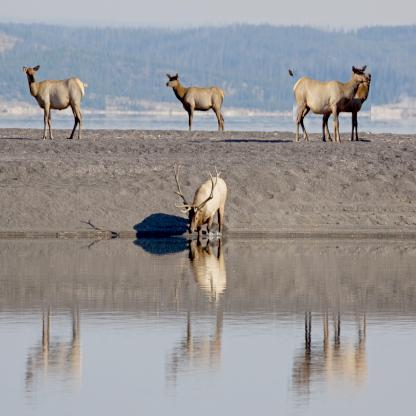Deer: (293, 57, 371, 143), (22, 64, 87, 138), (172, 161, 228, 241), (166, 72, 227, 129)
